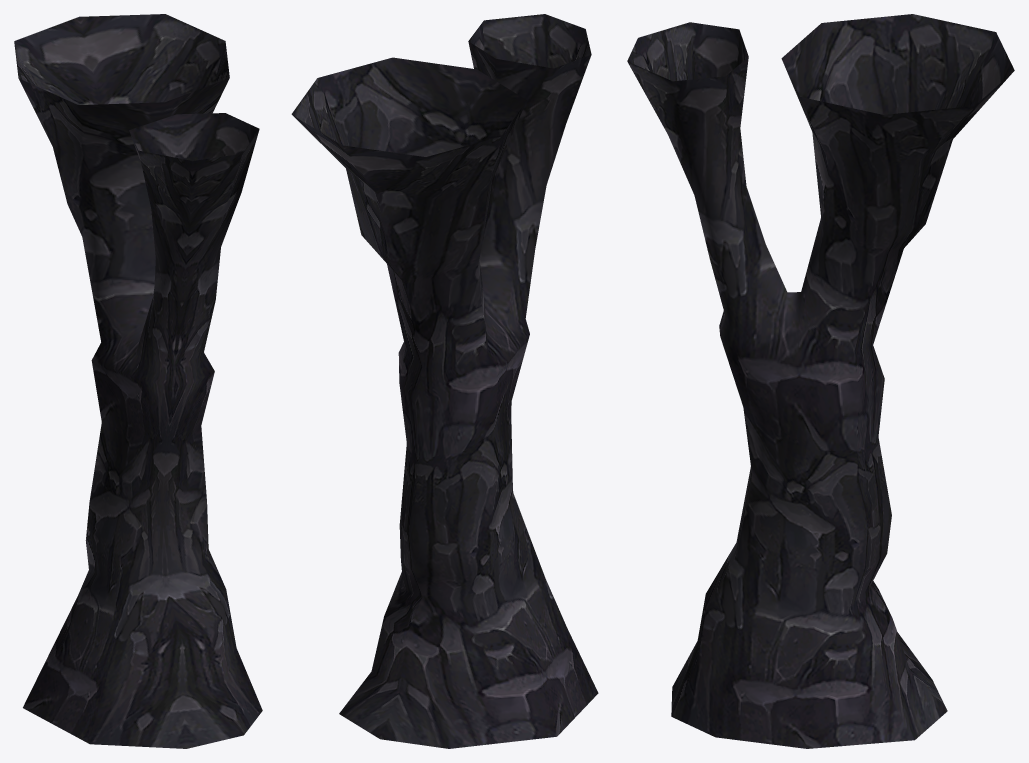
The model's file is Treasure_Wall_04.FBX.
The picture shows the model from 3 angles, left to right: view 1: azimuth 30°, elevation 25°; view 2: azimuth 150°, elevation 25°; view 3: azimuth 270°, elevation 25°; orthographic projection. The views are drawn at different scales.
Parts seen in each view (by area): view 1: Treasure_Wall_04; view 2: Treasure_Wall_04; view 3: Treasure_Wall_04.
Boxes of the visible parts, bbox=[...] form: Treasure_Wall_04: bbox=[14, 14, 262, 748]; Treasure_Wall_04: bbox=[291, 14, 598, 748]; Treasure_Wall_04: bbox=[627, 14, 1014, 748].
Bounding box in the file's own units: 7.02 × 18.48 × 10.08.
